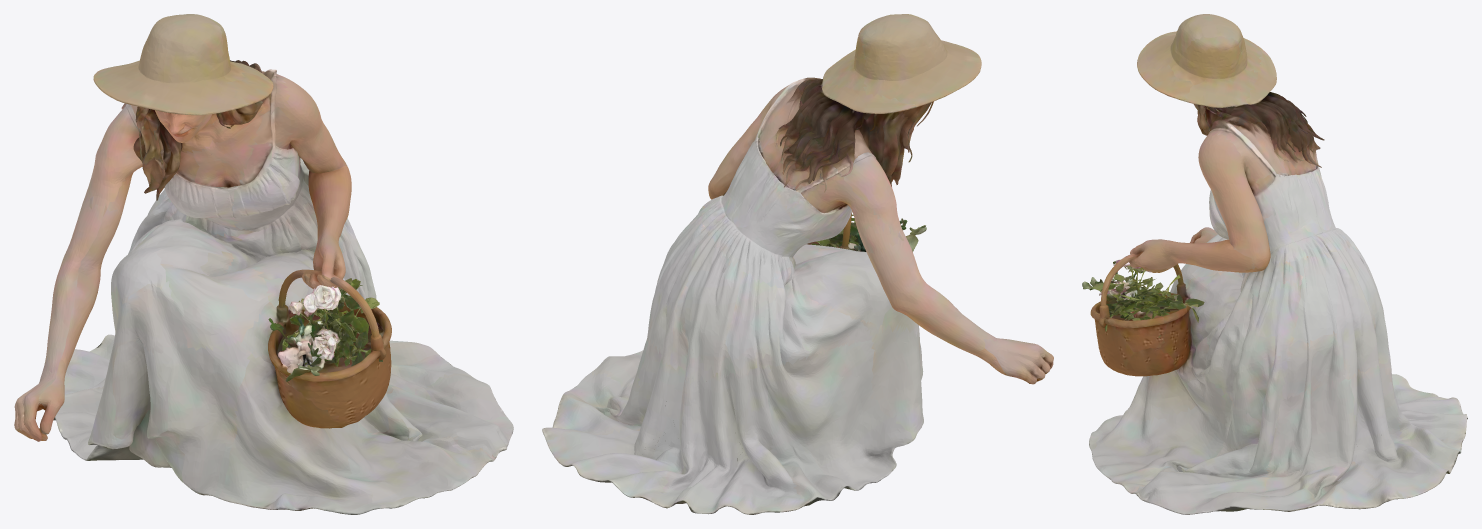
Rendered from flowers.glb.
3 views of the same model, side by side, from view 1: azimuth 30°, elevation 25°; view 2: azimuth 150°, elevation 25°; view 3: azimuth 270°, elevation 25° (orthographic). The views are drawn at different scales.
Parts seen in each view (by area): view 1: Woman picking flowers 100T, Flower (5K); view 2: Woman picking flowers 100T; view 3: Woman picking flowers 100T, Flower (5K).
Boxes of the visible parts, box(x1,y1,x2,y2) form: Woman picking flowers 100T: box(14, 14, 513, 514); Flower (5K): box(282, 278, 382, 366); Woman picking flowers 100T: box(542, 14, 1053, 514); Woman picking flowers 100T: box(1082, 14, 1467, 514); Flower (5K): box(1091, 259, 1204, 337).
Bounding box in the file's own units: 1 × 0.9204 × 0.8584.
2 materials, 2 textured.
